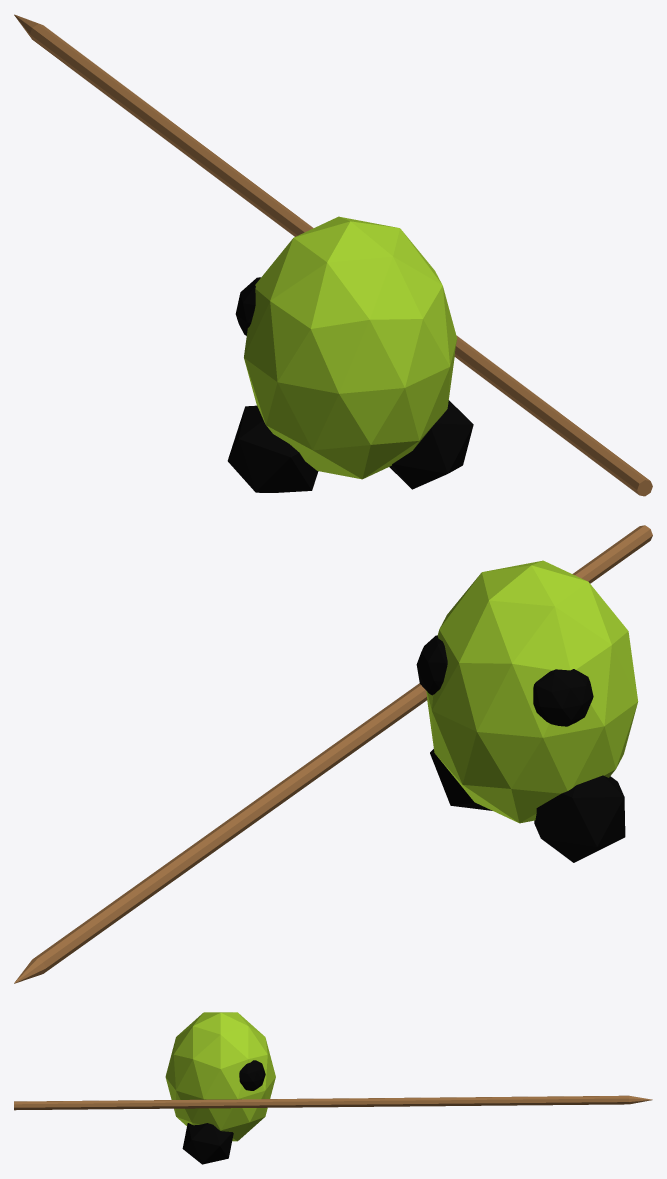
Rendered from walk.f0006.glb.
The picture shows the model from 3 angles, top to bottom: view 1: azimuth 30°, elevation 25°; view 2: azimuth 150°, elevation 25°; view 3: azimuth 270°, elevation 25°; orthographic projection. The views are drawn at different scales.
Visible parts, largest first — view 1: Body.001; view 2: Body.001; view 3: Body.001.
Part boxes in pixels (<box>): Body.001: <box>14,14,652,496</box>; Body.001: <box>14,525,652,983</box>; Body.001: <box>14,1012,652,1164</box>.
Bounding box in the file's own units: 2.17 × 2.73 × 11.56.
Materials: 1 (1 with a texture image).
